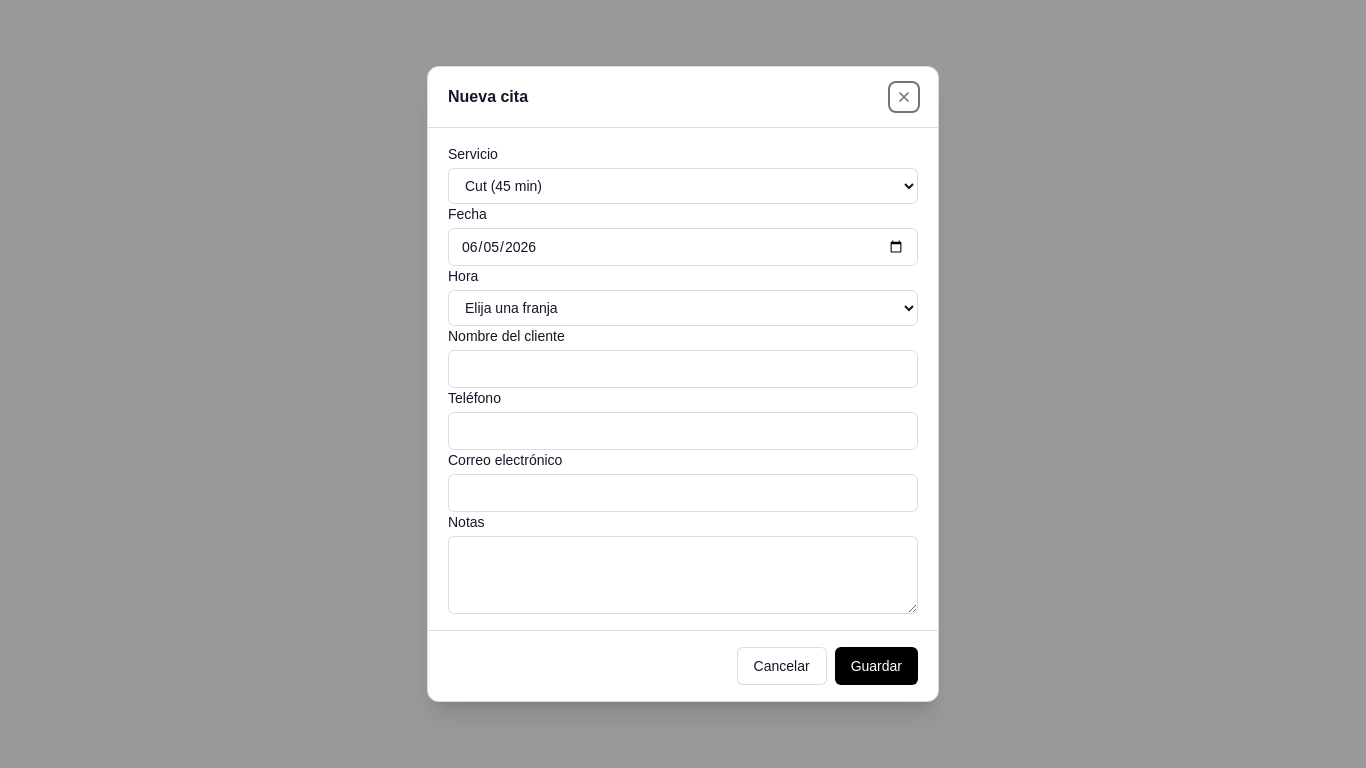
NewAppointmentModal › shows the generic save failure copy when the API response has no error body
Select "09:00" in the dropdown labelled "Hora" at point(683, 308), box [448, 290, 918, 326]
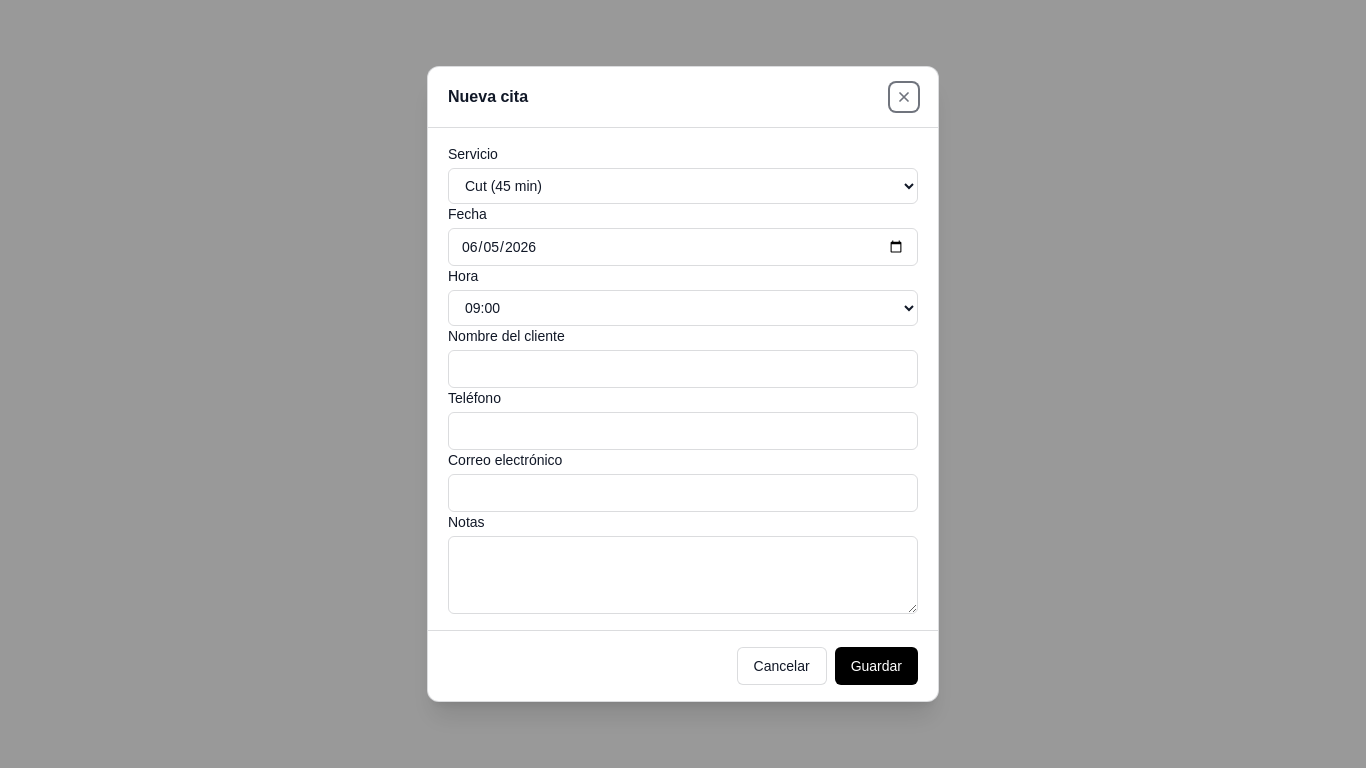
Type "Casey" into the field labelled "Nombre del cliente" at point(683, 369), box [448, 350, 918, 388]
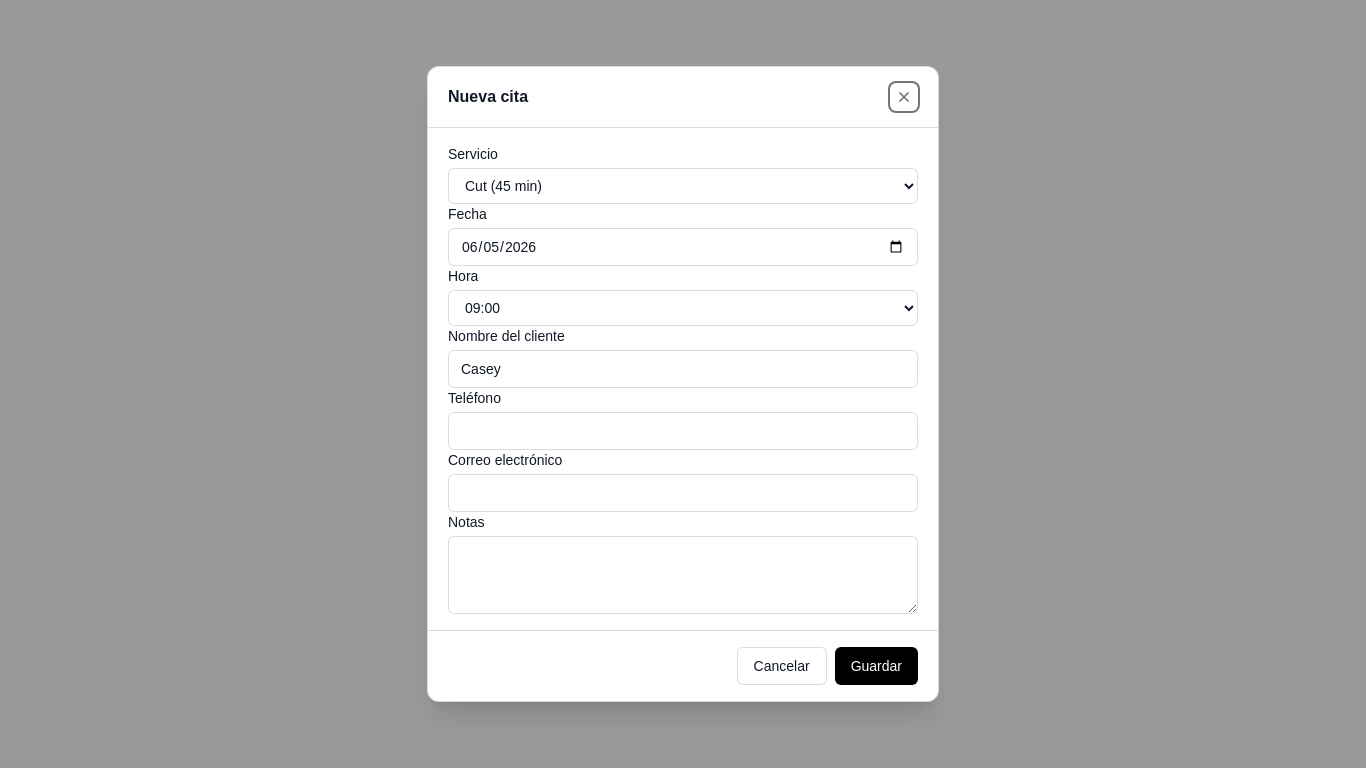
Type "555-1234" into the field labelled "Teléfono" at point(683, 431), box [448, 412, 918, 450]
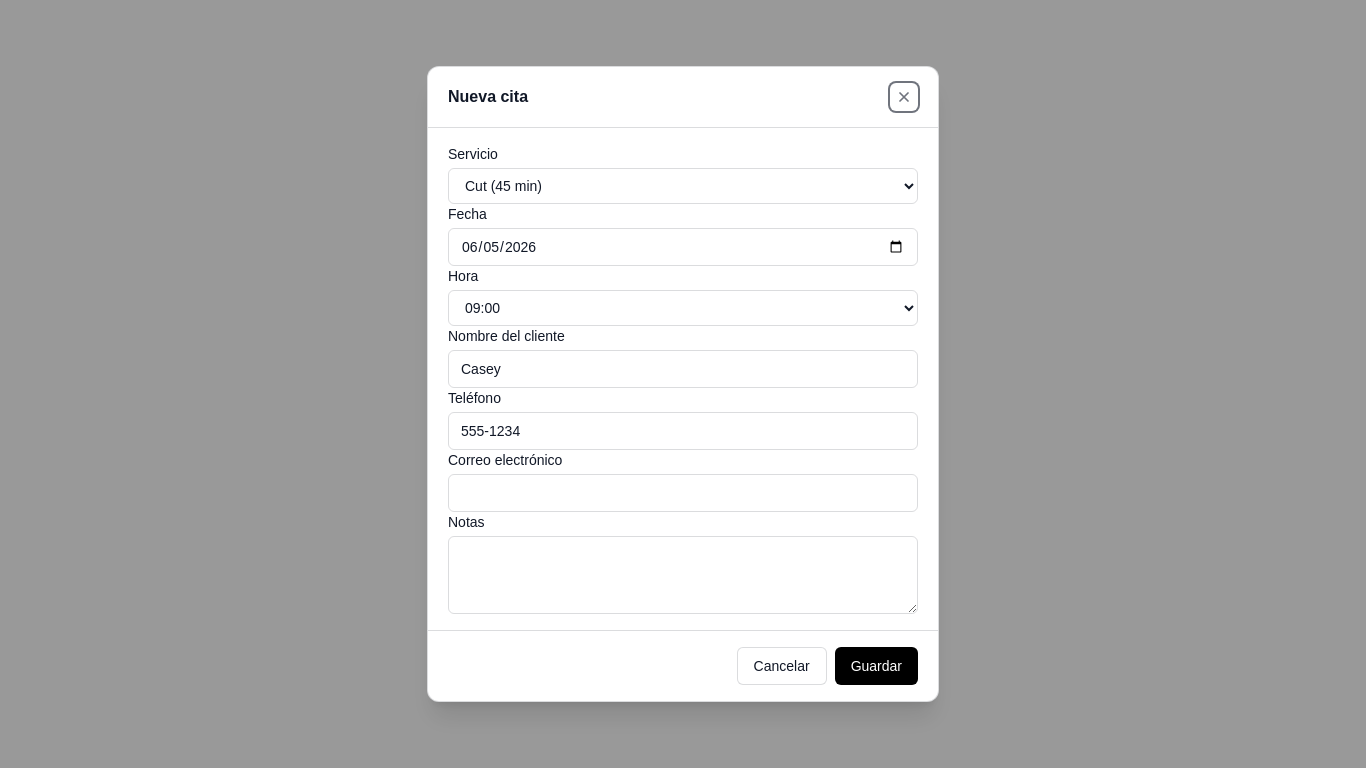
Type "casey@example.com" into the field labelled "Correo electrónico" at point(683, 493), box [448, 474, 918, 512]
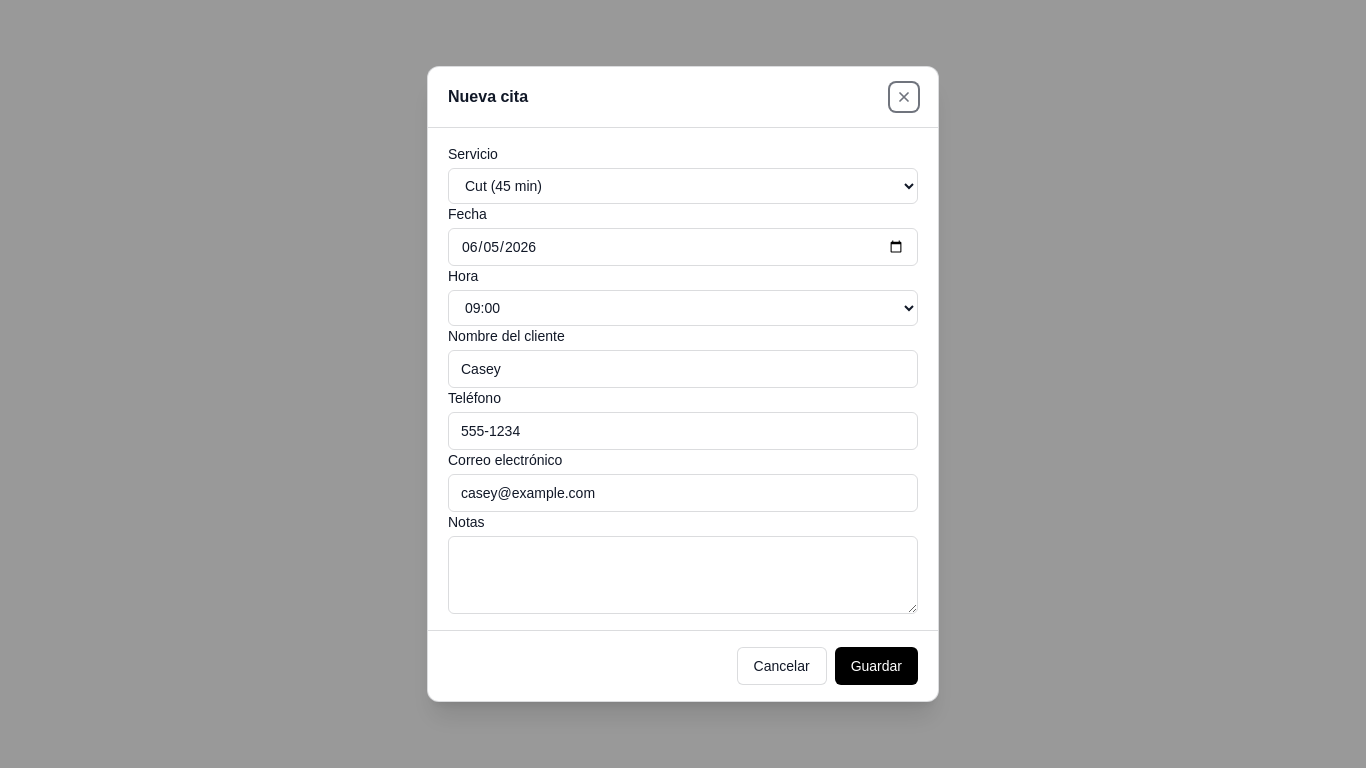
Click the button "Guardar" at point(876, 666), box [835, 647, 918, 685]
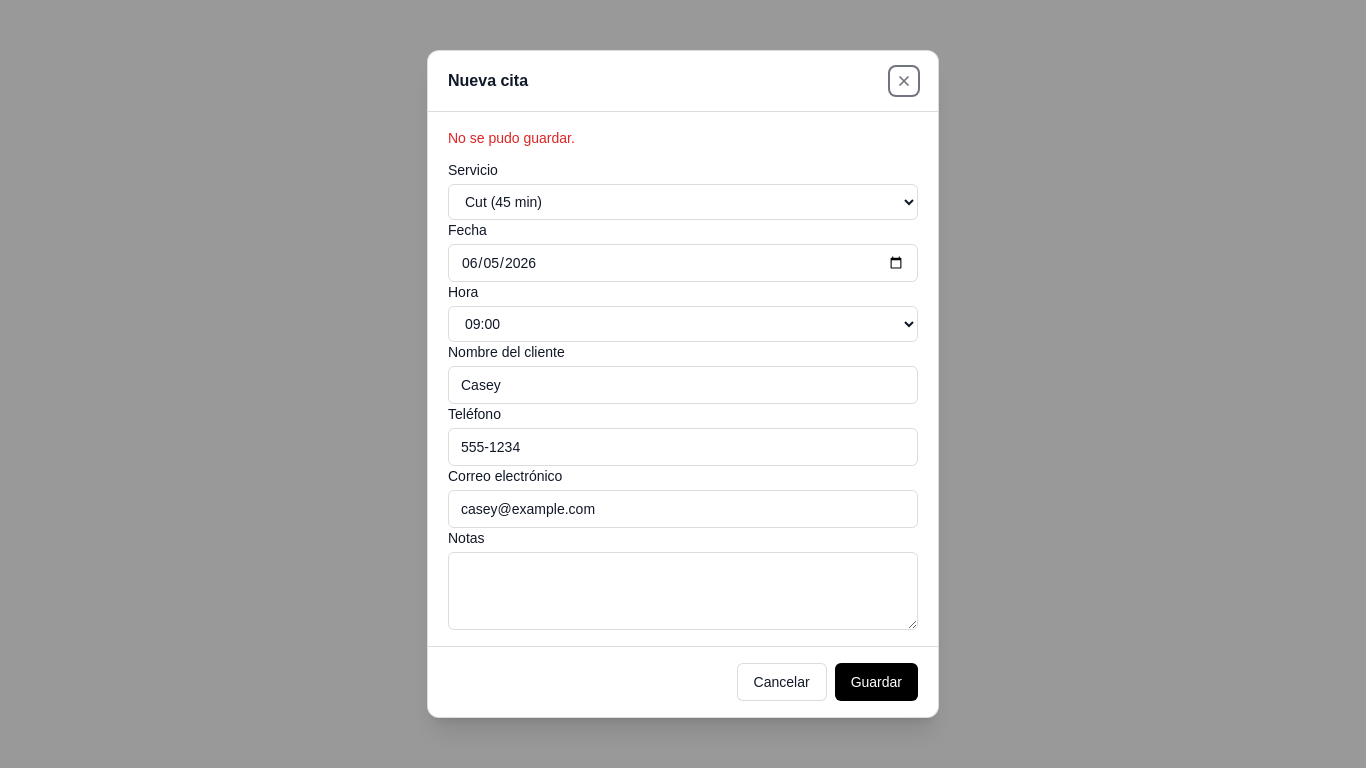
Expected: the text "No se pudo guardar." is shown, [448, 130, 575, 146]
